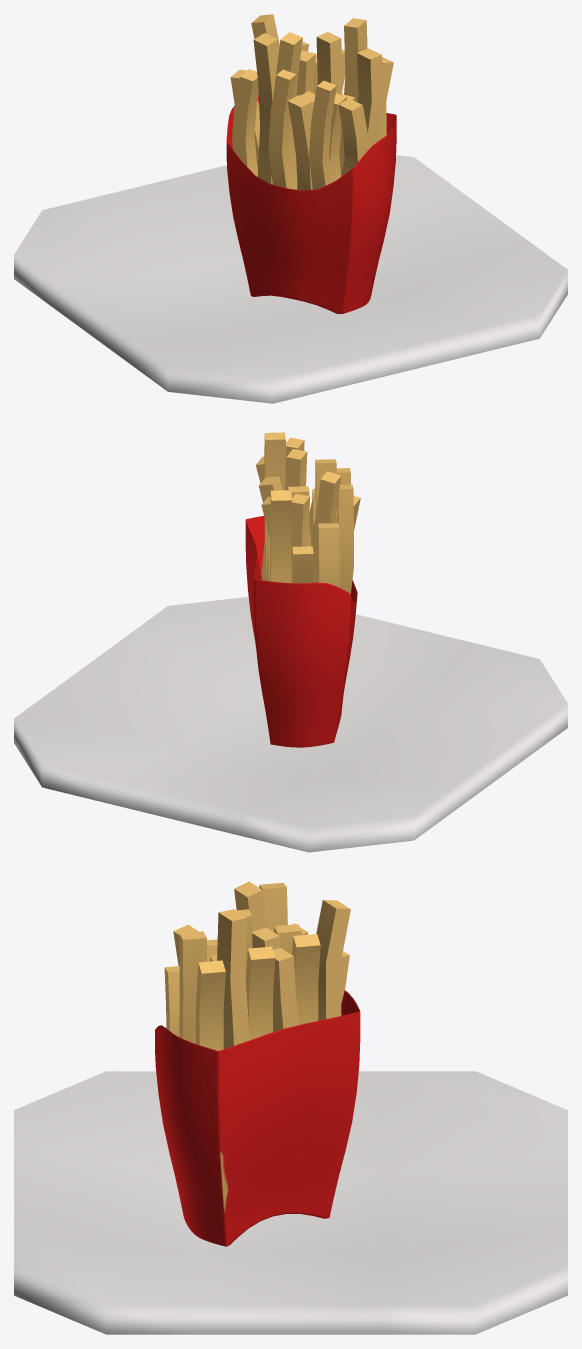
File: fries_plate.fbx
3 views of the same model, one above another, from view 1: azimuth 30°, elevation 25°; view 2: azimuth 150°, elevation 25°; view 3: azimuth 270°, elevation 25° (orthographic). The views are drawn at different scales.
Parts seen in each view (by area): view 1: hamburgerFries_plate:pCube4, hamburgerFries_plate:pCube29; view 2: hamburgerFries_plate:pCube4, hamburgerFries_plate:pCube29; view 3: hamburgerFries_plate:pCube4, hamburgerFries_plate:pCube29.
Part boxes in pixels (x1,y1,x2,y2): hamburgerFries_plate:pCube4: [14, 155, 567, 403]; hamburgerFries_plate:pCube29: [226, 14, 396, 313]; hamburgerFries_plate:pCube4: [14, 596, 567, 852]; hamburgerFries_plate:pCube29: [245, 432, 360, 747]; hamburgerFries_plate:pCube4: [14, 1071, 567, 1334]; hamburgerFries_plate:pCube29: [155, 881, 360, 1246].
Bounding box in the file's own units: 0.4064 × 0.2739 × 0.4064.
Materials: 2 (1 with a texture image).
